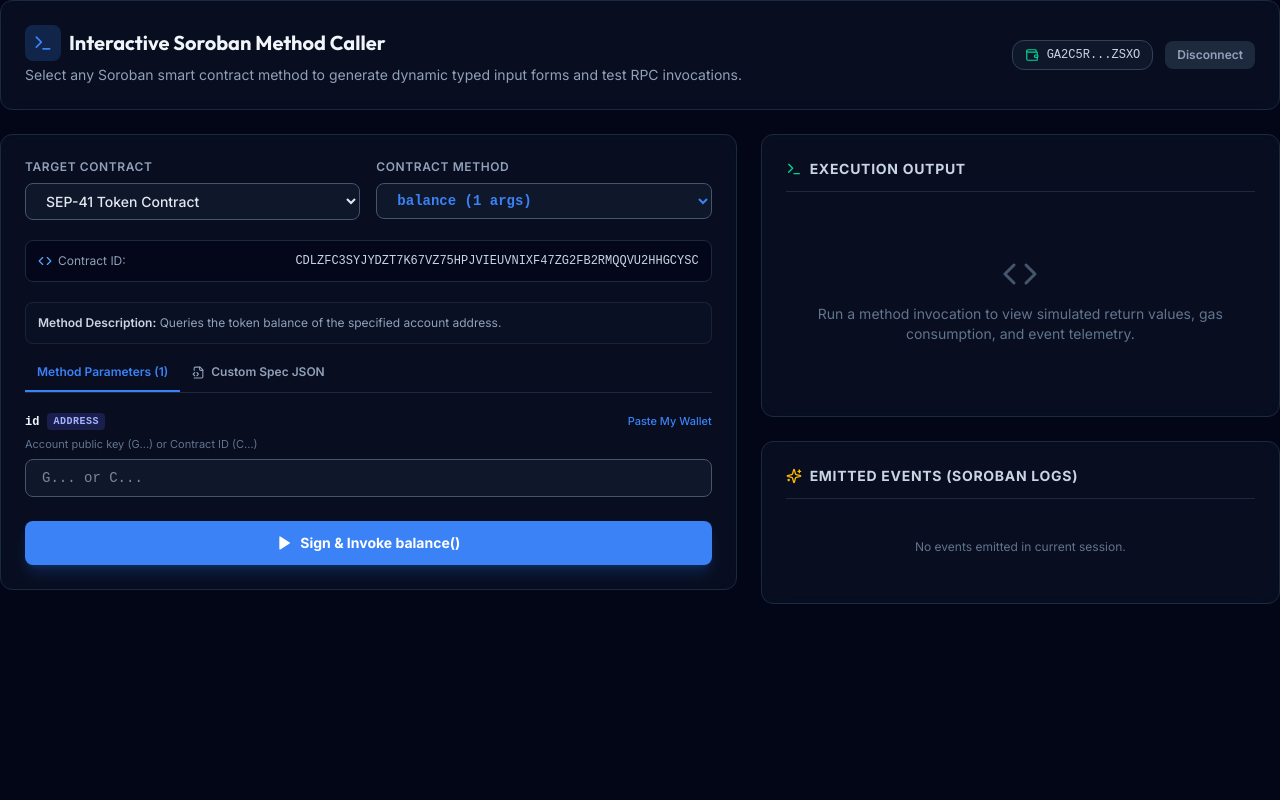
Test: ContractPlayground - Interactive Soroban Contract Method Caller UI › ContractPlayground component UI & Form Generation › populates wallet address when clicking Paste My Wallet
Click the button with test id "fill-wallet-id" at coordinates (670, 422), box [628,413,712,430]
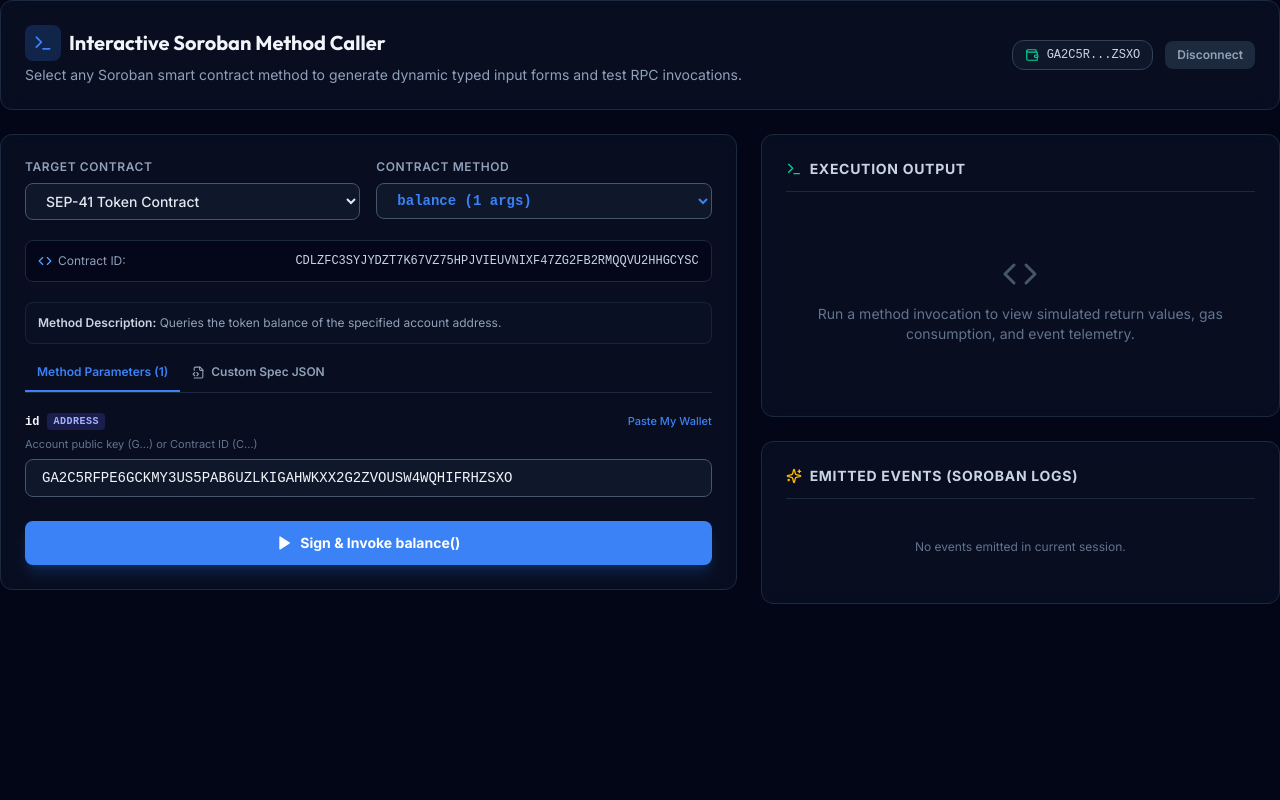
Result: the field with test id "param-input-id" holds "GA2C5RFPE6GCKMY3US5PAB6UZLKIGAHWKXX2G2ZVOUSW4WQHIFRHZSXO" at [25,459,712,497]
